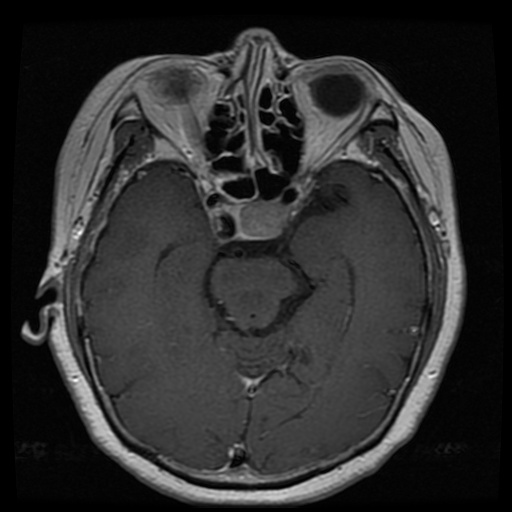pituitary: (234, 198, 291, 238)
